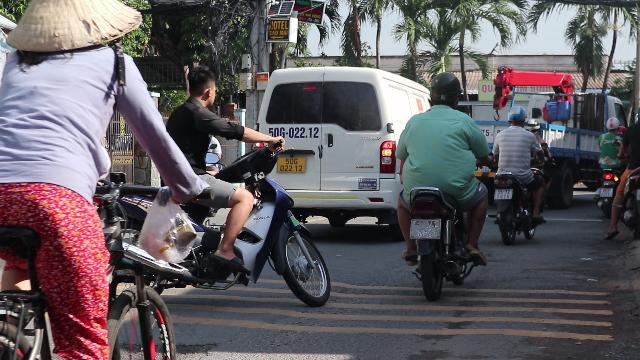helmet: (426, 71, 462, 109), (506, 106, 526, 127)
licenseplate: (411, 219, 441, 239), (495, 189, 513, 199)
motorcyclist: (390, 70, 492, 292), (490, 105, 548, 243)
nohelmet: (185, 66, 217, 108)
